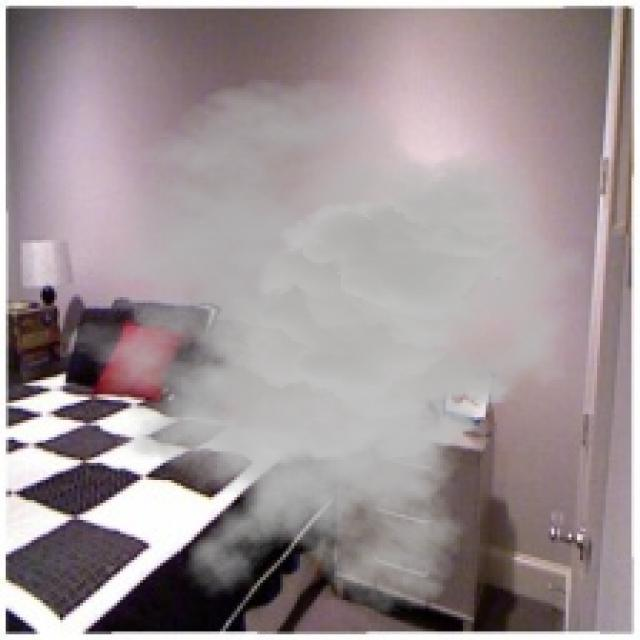Smoke: (34, 77, 589, 617)
